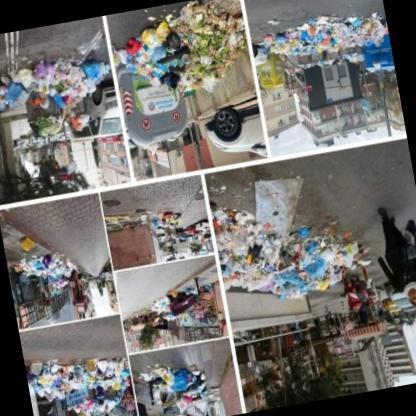Garbage: (244, 200, 334, 290), (135, 0, 224, 55), (291, 215, 341, 293), (150, 47, 218, 92), (50, 44, 104, 100), (226, 216, 268, 286), (0, 62, 60, 109), (115, 31, 166, 80), (319, 9, 370, 56), (26, 356, 76, 402), (267, 254, 323, 294), (156, 360, 203, 398), (264, 18, 313, 54), (77, 348, 125, 383), (28, 251, 78, 279), (298, 10, 328, 48), (358, 14, 384, 46), (34, 118, 62, 140), (323, 51, 358, 67), (146, 295, 172, 313), (154, 208, 174, 224)
